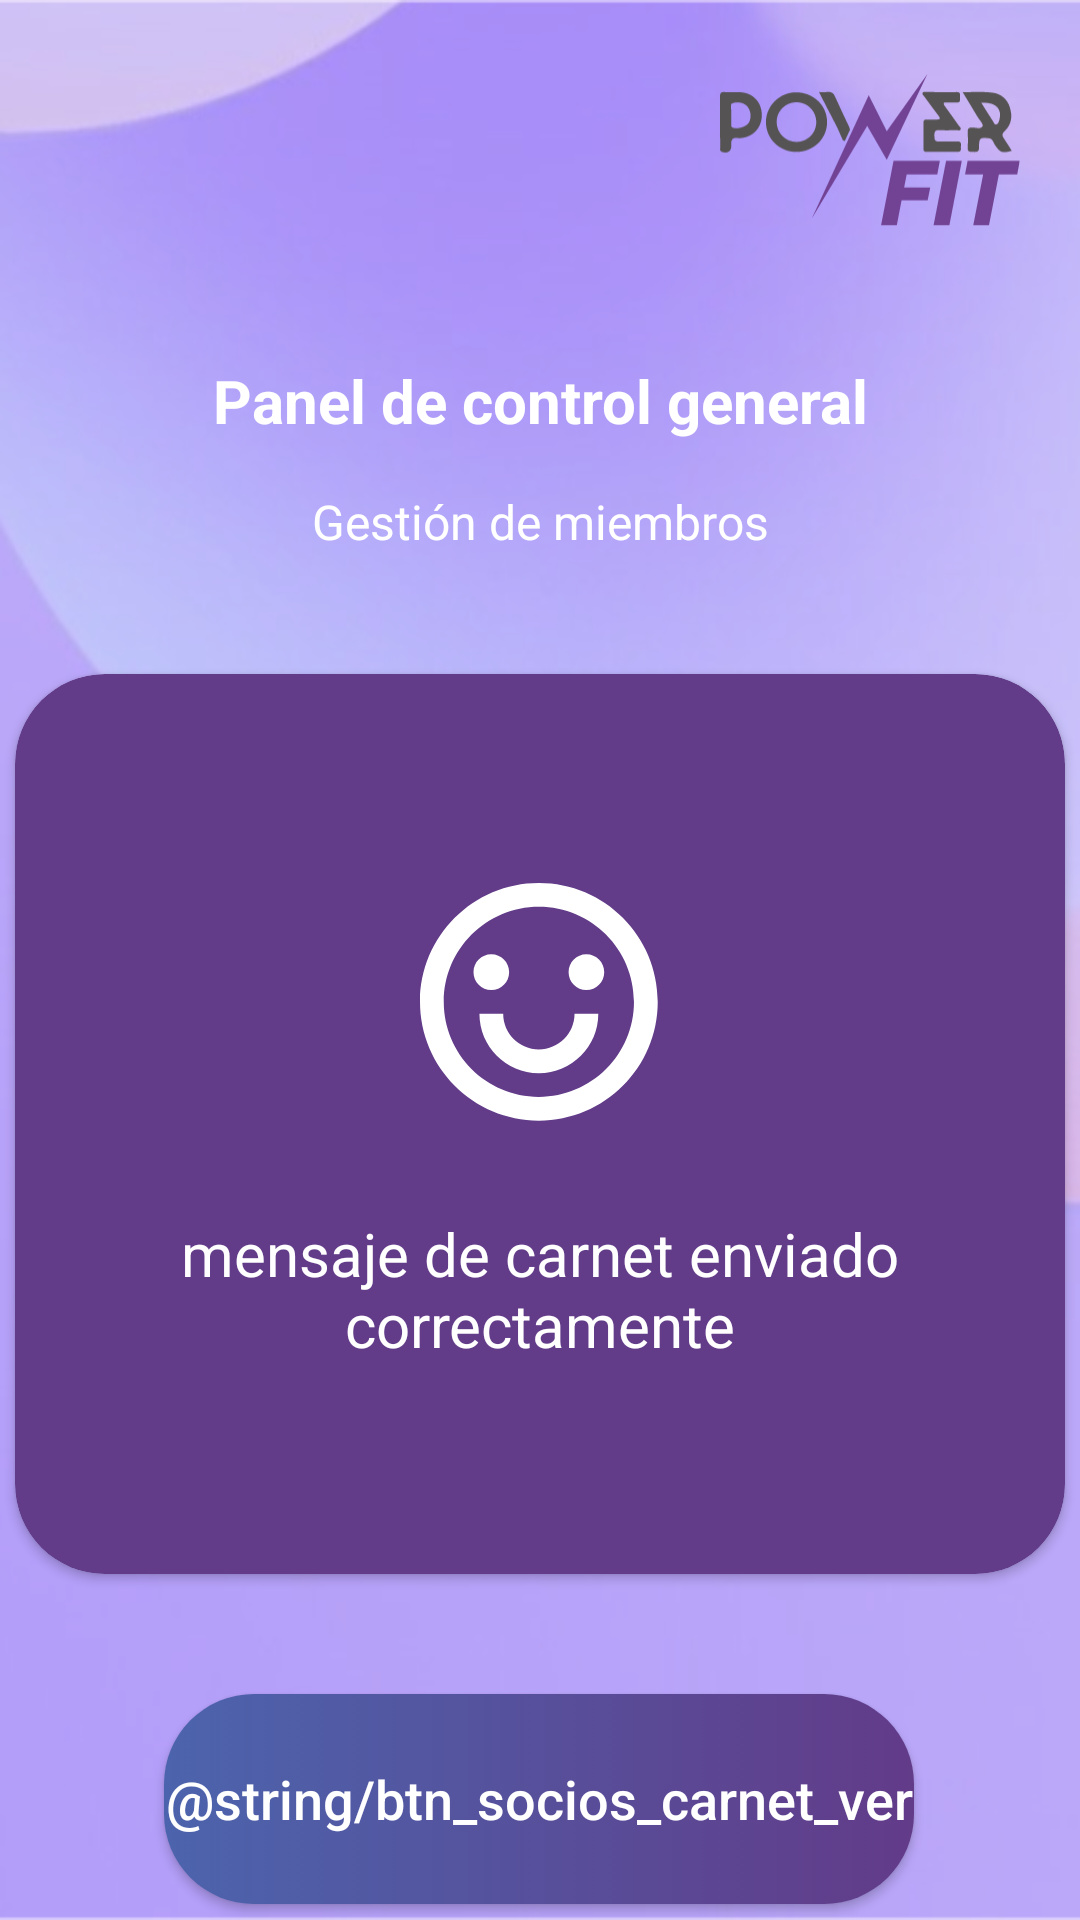

Icons on this 1080x1920 Android screen, each with its box as (x1, y1, x2, y2):
feli: (420, 883, 658, 1121)
